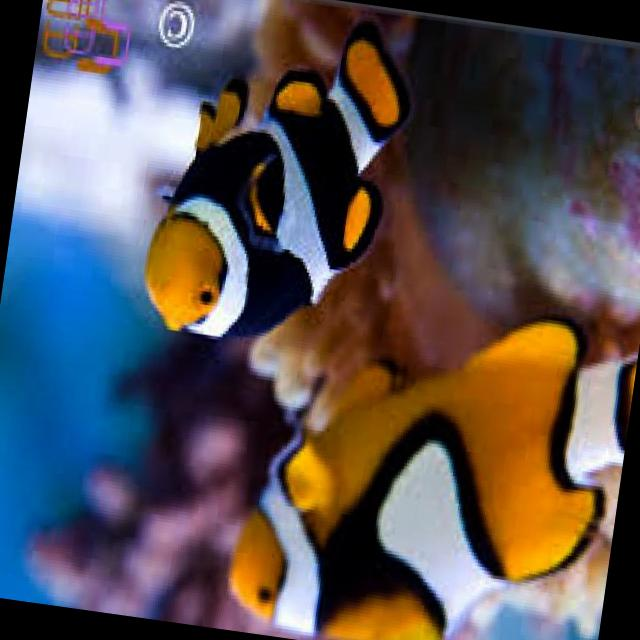ClownFish: (217, 286, 640, 640), (134, 0, 416, 360)
